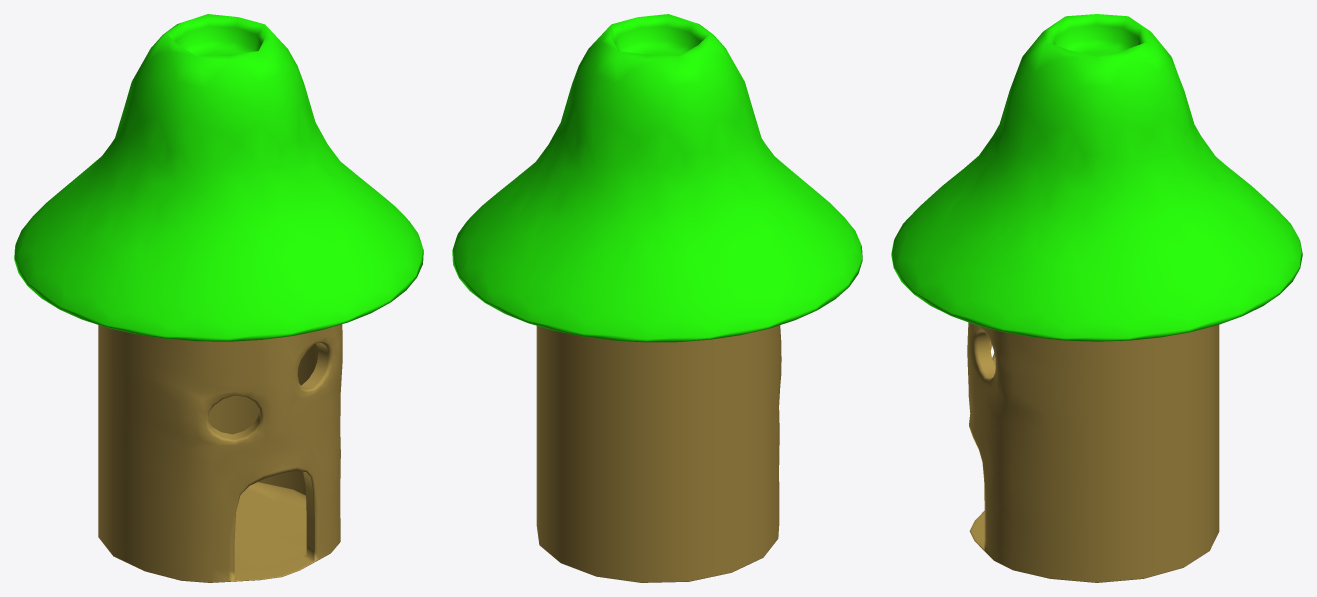
The model's file is Hausi7.FBX.
3 renders of one model, left to right at view 1: azimuth 30°, elevation 25°; view 2: azimuth 150°, elevation 25°; view 3: azimuth 270°, elevation 25°, orthographic.
Visible parts, largest first — view 1: GeoSphere001, Cylinder003; view 2: GeoSphere001, Cylinder003; view 3: GeoSphere001, Cylinder003.
Part boxes in pixels (x1,y1,x2,y2): GeoSphere001: (14, 14, 423, 341); Cylinder003: (98, 324, 342, 582); GeoSphere001: (452, 14, 862, 342); Cylinder003: (536, 325, 781, 582); GeoSphere001: (891, 14, 1302, 341); Cylinder003: (967, 322, 1219, 582).
Bounding box in the file's own units: 165 × 165 × 220.
